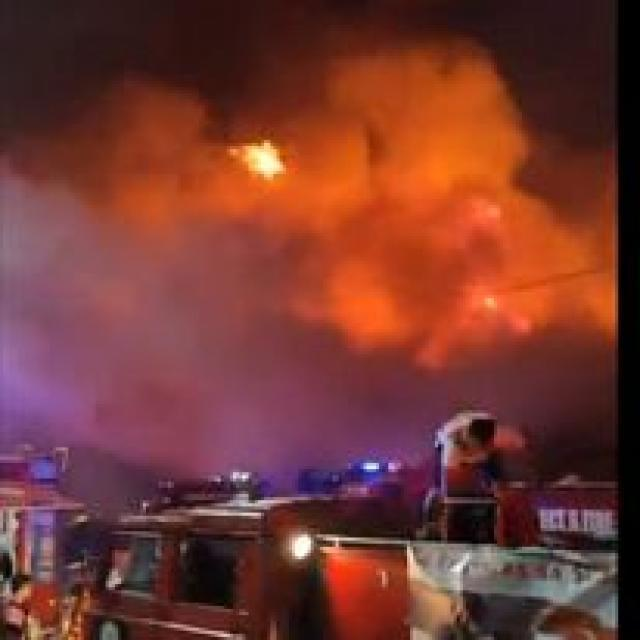Fire: (447, 260, 520, 344), (242, 121, 292, 190)
Smoke: (0, 10, 640, 454)
